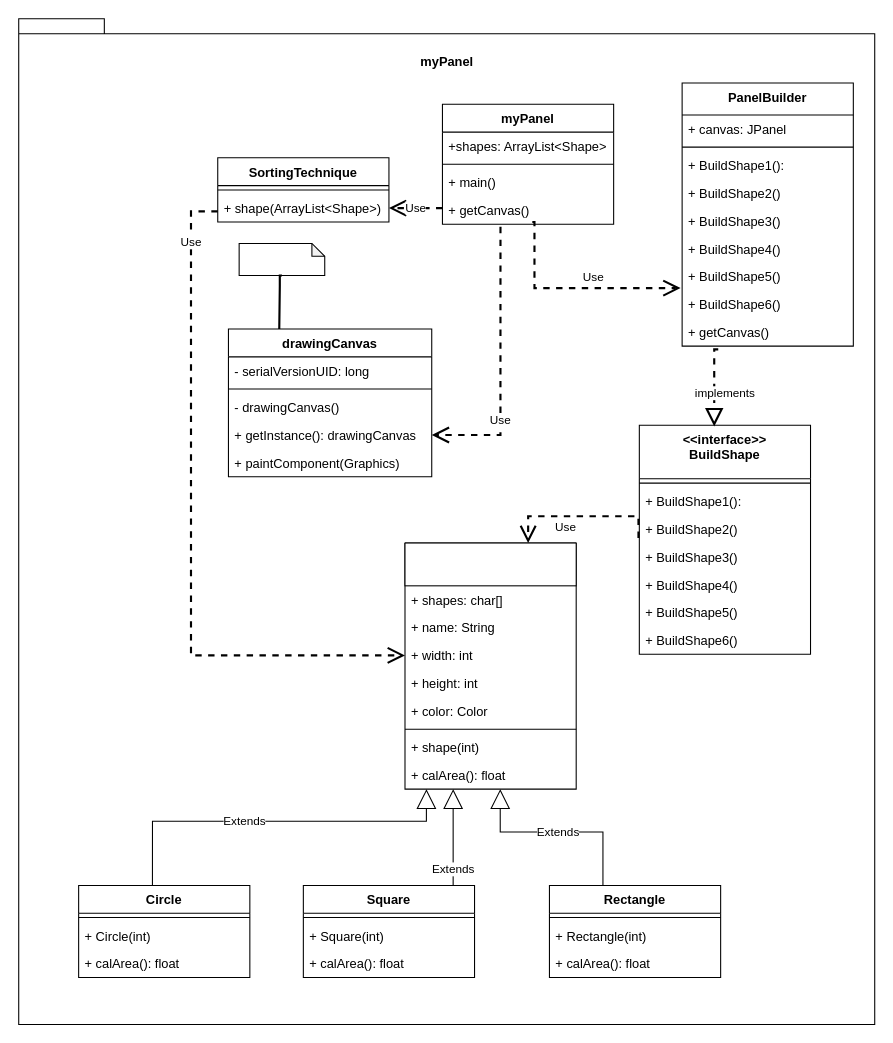
Some shapes in this 893 by 1043 pixel diagram are drawn without their labels. The centre of each missing label's shape, as x and y in pixels:
"<<abstract>> Shape" goes at (490,564).
"Singleton" goes at (281,259).
